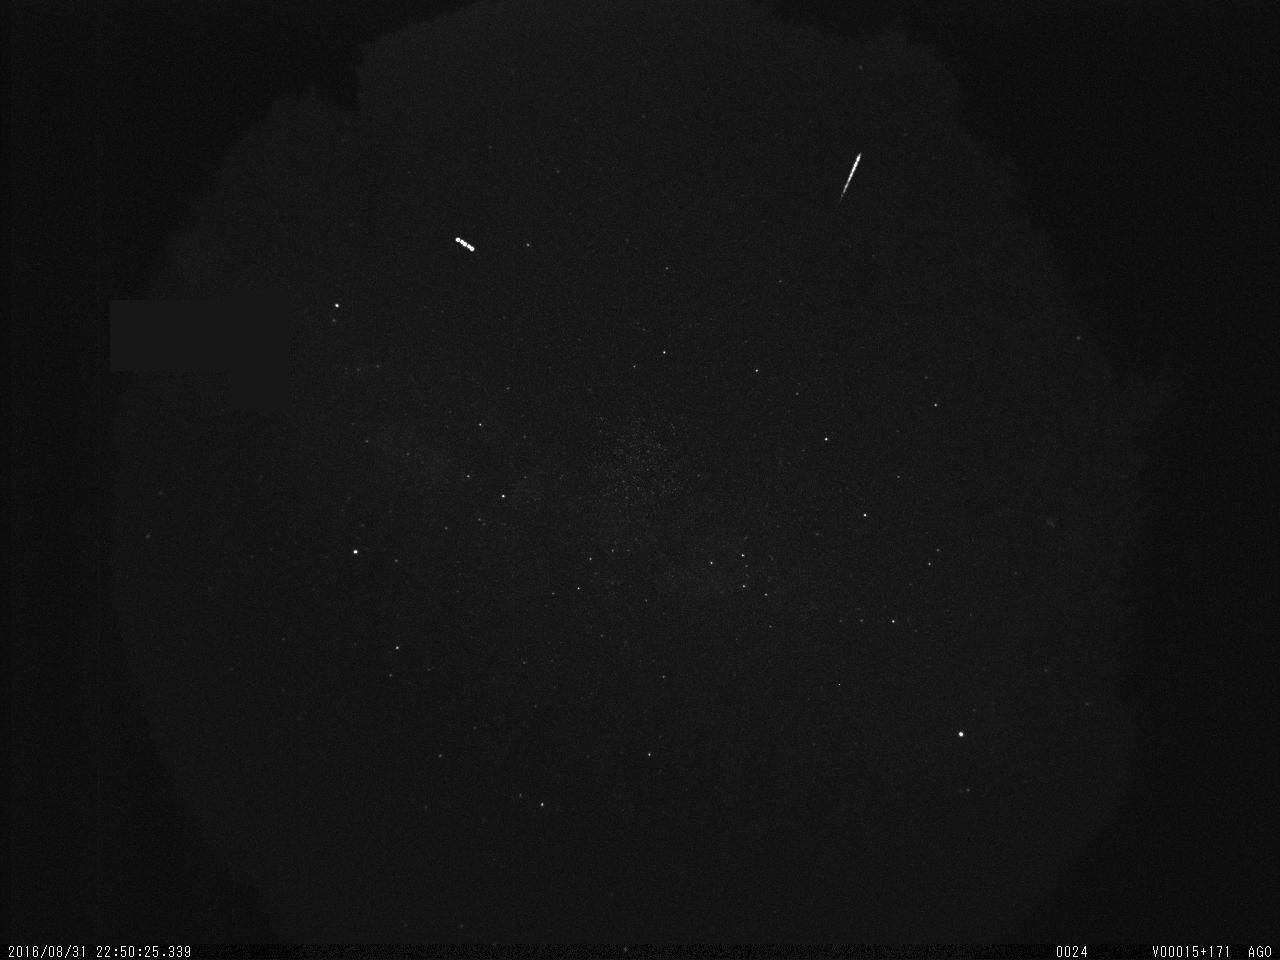meteor: (821, 134, 876, 221)
